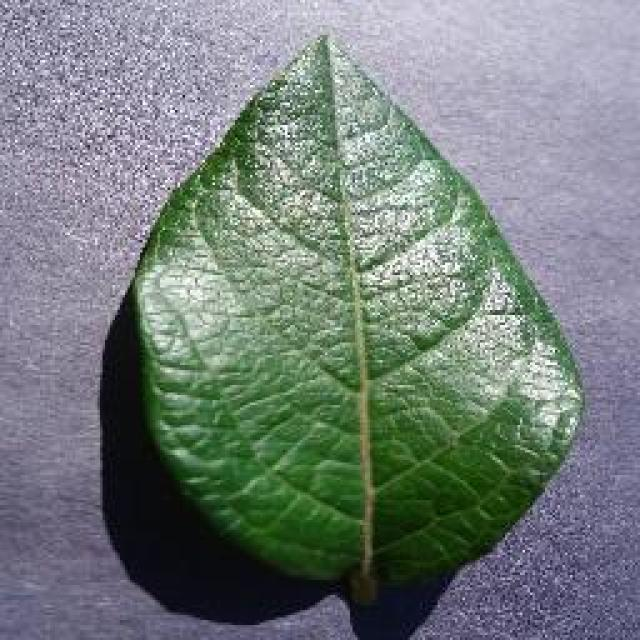Blu_healthy: (169, 110, 511, 499)
